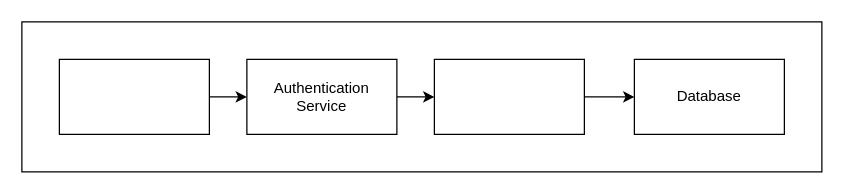
Image size: 844x194. Some labels were removed from this diagram. Here are the shapes that lost their labels. From the top down, the centre of each, then its label:
At point (133, 96): "Web UI".
At point (508, 96): "User Repository".
